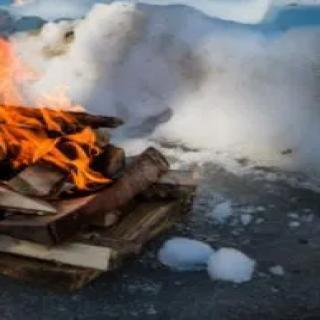fire: (0, 0, 320, 320), (0, 0, 110, 200)
